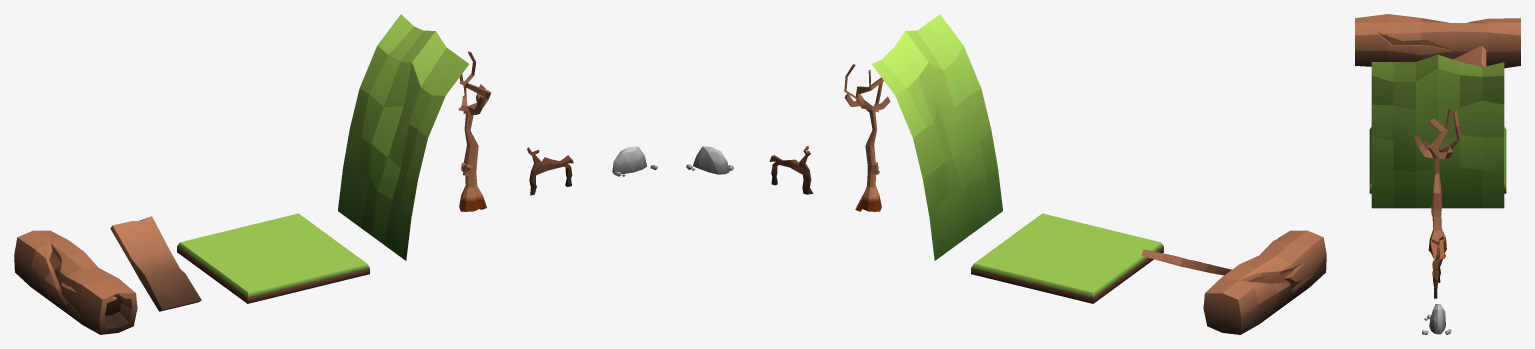
The model's file is Pieces.glb.
3 views of the same model, side by side, from view 1: azimuth 30°, elevation 25°; view 2: azimuth 150°, elevation 25°; view 3: azimuth 270°, elevation 25° (orthographic). The views are drawn at different scales.
Parts seen in each view (by area): view 1: Plane-col, Ground-col, Log-col, Plank-col, Tree-col, Underpass-col, Stone-col; view 2: Plane-col, Ground-col, Log-col, Tree-col, Stone-col, Plank-col, Underpass-col; view 3: Plane-col, Log-col, Tree-col, Stone-col, Plank-col, Ground-col, Underpass-col.
Part boxes in pixels (x1,y1,x2,y2): Plane-col: (338,14,469,260); Ground-col: (177,213,369,303); Log-col: (14,230,137,334); Plank-col: (110,216,201,311); Tree-col: (458,51,491,211); Underpass-col: (527,147,573,195); Stone-col: (612,146,657,176); Plane-col: (871,14,1002,260); Ground-col: (971,213,1163,303); Log-col: (1203,230,1326,334); Tree-col: (844,64,889,211); Stone-col: (686,146,733,174); Plank-col: (1141,249,1231,275); Underpass-col: (769,146,813,194); Plane-col: (1371,54,1504,208); Log-col: (1355,14,1520,68); Tree-col: (1413,109,1461,259); Stone-col: (1422,304,1451,334); Plank-col: (1453,46,1486,67); Ground-col: (1369,127,1506,193); Underpass-col: (1432,236,1444,298).
Bounding box in the file's own units: 30.22 × 9.32 × 7.49.
Materials: 1 (1 with a texture image).
